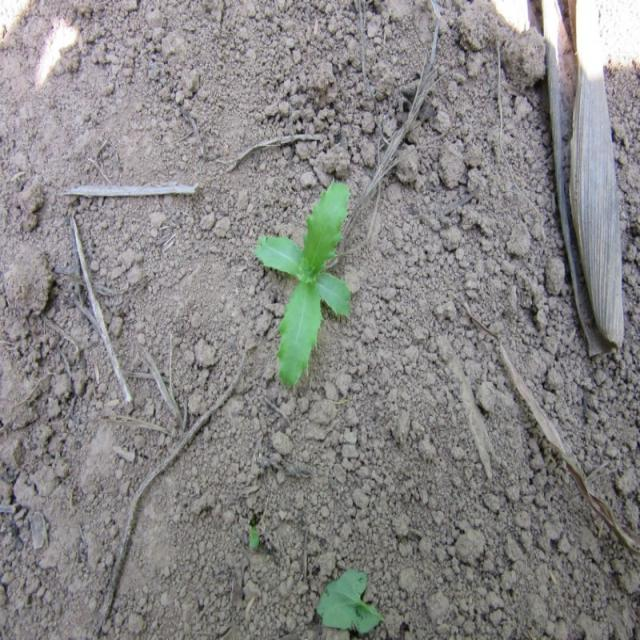cs: (246, 169, 357, 391)
